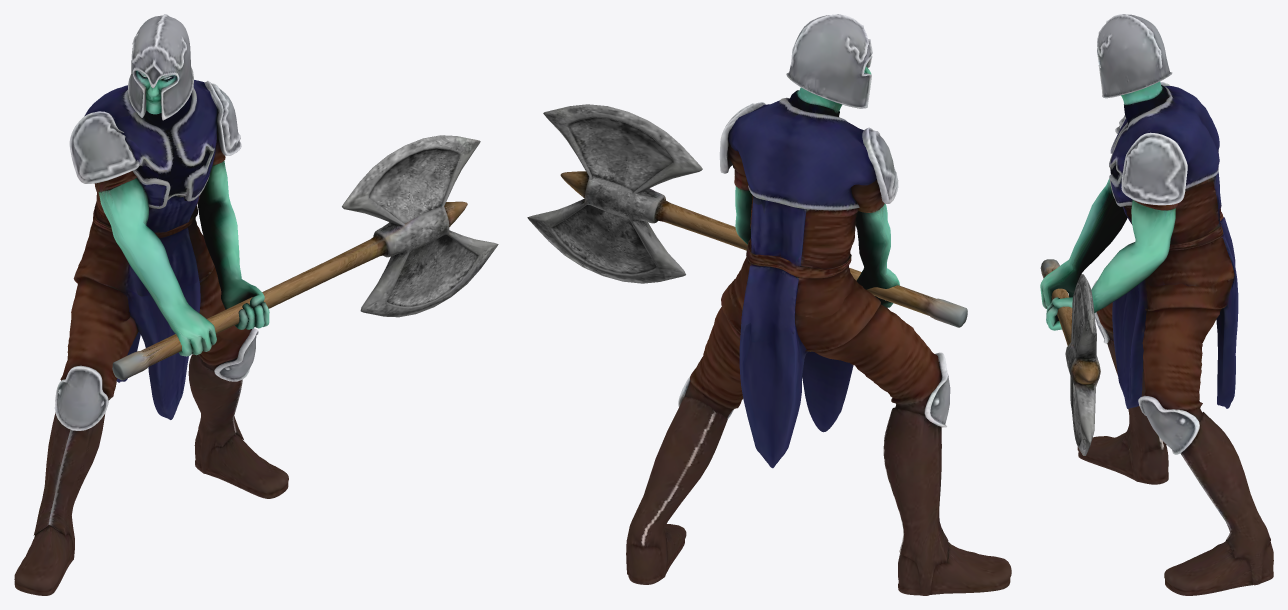
File: MZ4250 - Demos Magen_greataxe.glb
3 renders of one model, left to right at view 1: azimuth 30°, elevation 25°; view 2: azimuth 150°, elevation 25°; view 3: azimuth 270°, elevation 25°, orthographic. The views are drawn at different scales.
Visible parts, largest first — view 1: Demos Magen.002; view 2: Demos Magen.002; view 3: Demos Magen.002.
Boxes of the visible parts, x1,y1,x2,y2 form: Demos Magen.002: [14, 14, 498, 595]; Demos Magen.002: [527, 14, 1011, 595]; Demos Magen.002: [1040, 14, 1273, 595].
Bounding box in the file's own units: 169 × 179 × 74.71.
2 materials, 2 textured.
